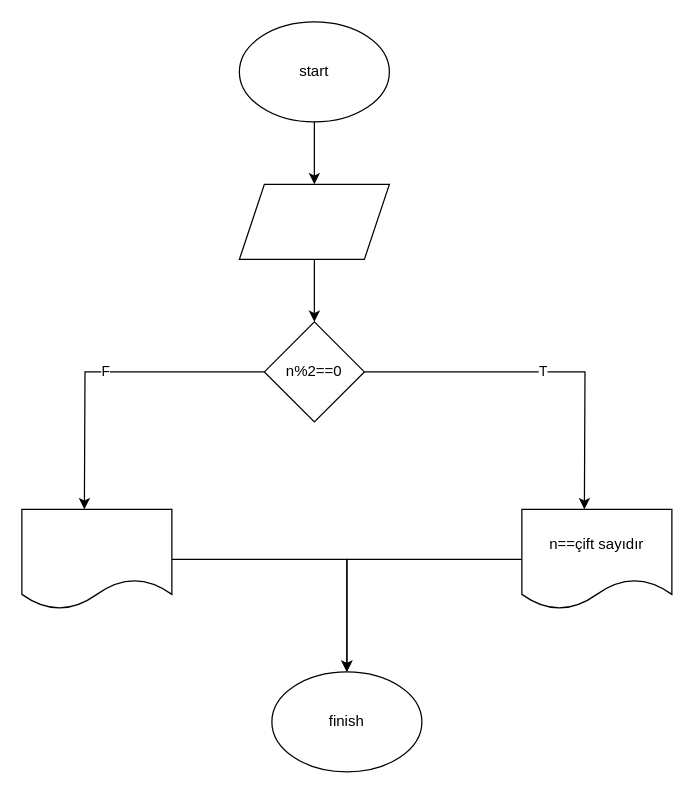
The diagram is 694 pixels wide and 794 high, and some of its shapes have lost their labels. The box of each missing label's shape, as (x1, y1, x2, y2) in pixels:
bir sayi giriniz,n: (238, 183, 389, 259)
n==tek sayıdır: (21, 508, 172, 609)
